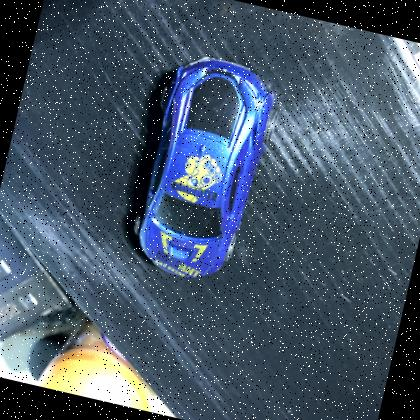Car: (113, 37, 296, 296)
